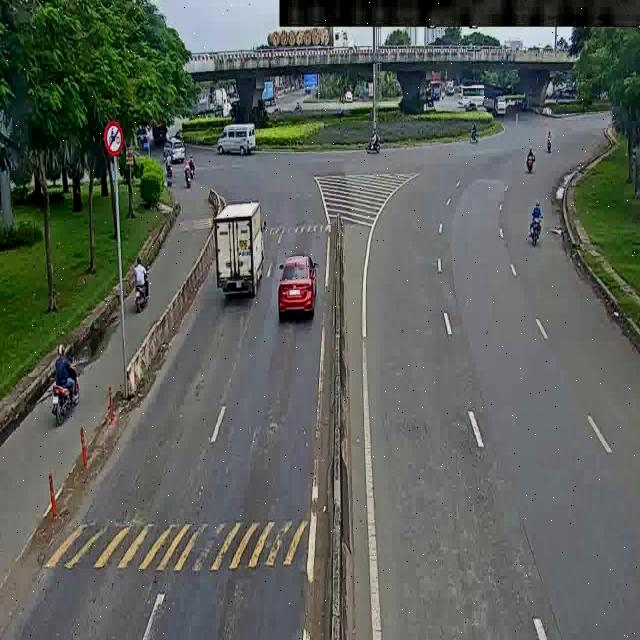car: (278, 249, 328, 323), (214, 118, 253, 161), (163, 131, 189, 165)
motorbike: (35, 346, 89, 423), (515, 195, 547, 250), (128, 253, 155, 307), (359, 126, 386, 151), (522, 149, 542, 180), (541, 129, 559, 158), (465, 121, 484, 148), (164, 162, 178, 190), (181, 160, 196, 185)
truck: (211, 202, 271, 296), (450, 78, 497, 104)
